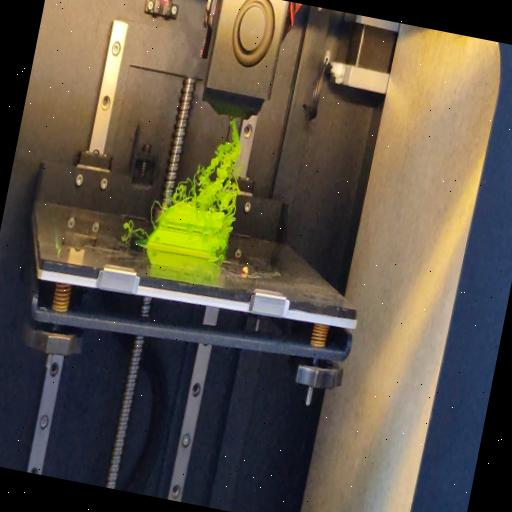spaghetti: (168, 114, 257, 218), (216, 216, 236, 266), (146, 194, 166, 230), (119, 220, 147, 234)
